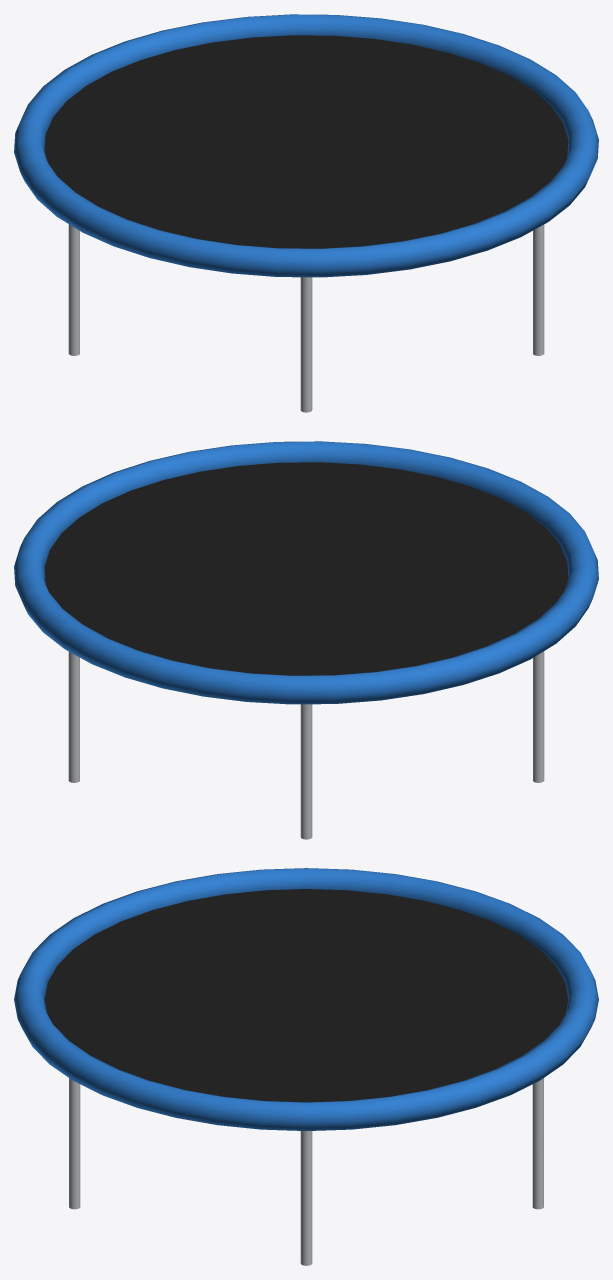
Rendered from trampoline.glb.
3 renders of one model, top to bottom at view 1: azimuth 30°, elevation 25°; view 2: azimuth 150°, elevation 25°; view 3: azimuth 270°, elevation 25°, orthographic.
Parts seen in each view (by area): view 1: trampoline; view 2: trampoline; view 3: trampoline.
Boxes of the visible parts, x1,y1,x2,y2 form: trampoline: (14, 14, 598, 412); trampoline: (14, 441, 598, 839); trampoline: (14, 868, 598, 1265).
Size of the model in its own units: 3.06 by 0.95 by 3.06.
